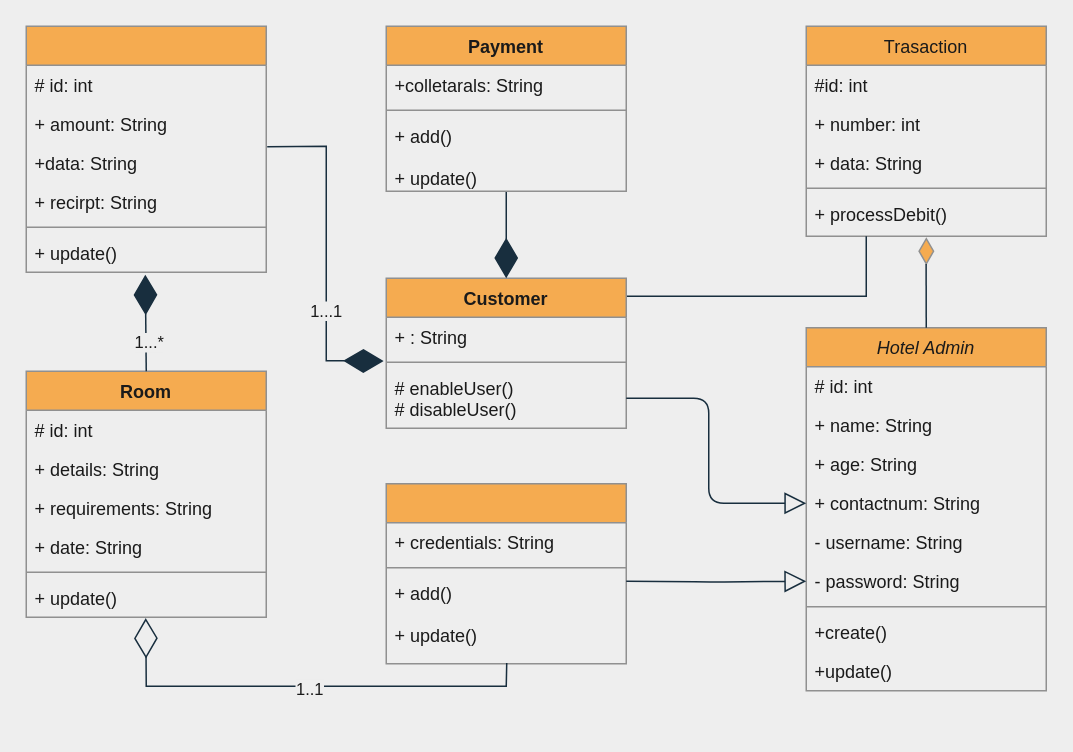
The diagram is 1073 pixels wide and 752 high, and some of its shapes have lost their labels. Here are the shapes that lost their labels. From the top down, the box of each, then its label:
(25, 25, 266, 272): Reservation
(385, 482, 626, 664): Employee
